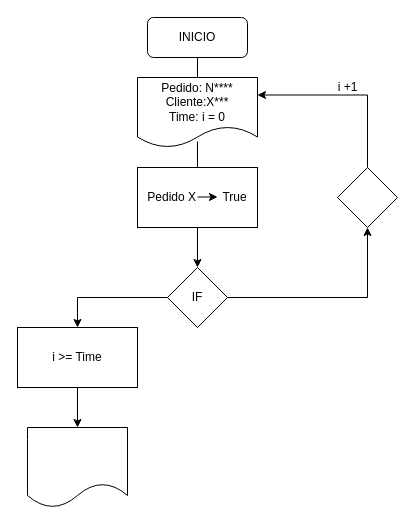
Some shapes in this 415 by 525 pixel diagram are drawn without their labels. Here are the shapes that lost their labels. From the top down, the box of each, then its label:
(336, 166, 398, 228): ELSE
(26, 426, 128, 508): Avisar al mesero
